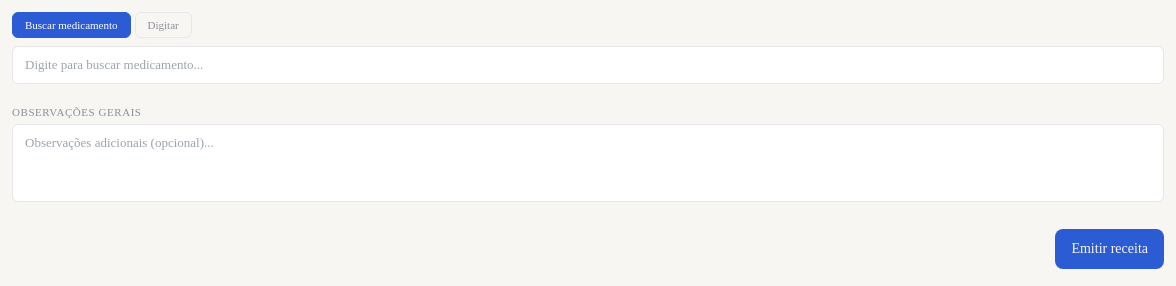
PrescriptionForm (integration) › switches back to medication tab when clicking Buscar medicamento
Click the button with test id "prescription-form-tab-ingredient" at (163, 25), box [135,12,192,38]
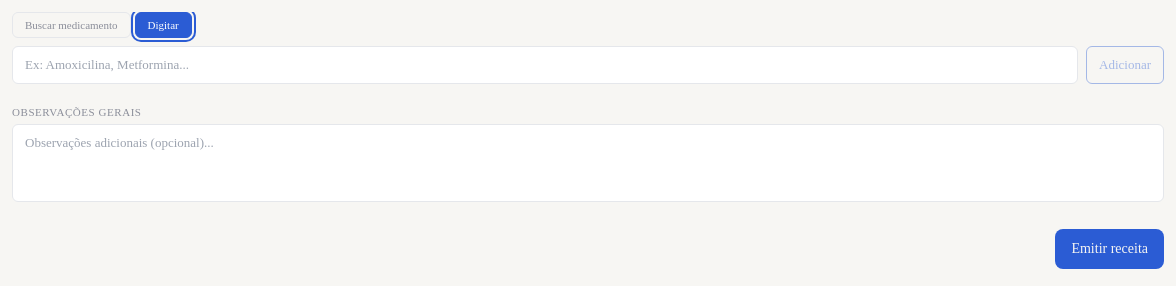
Click the button with test id "prescription-form-tab-medication" at (71, 25), box [12,12,131,38]
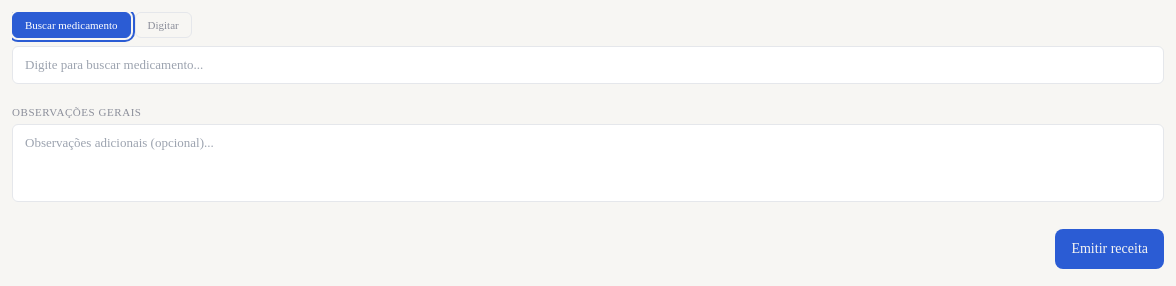
Expected: the field with test id "prescription-form-search" is shown, [12,46,1164,84]
Expected: the field with test id "prescription-form-manual-input" is gone
